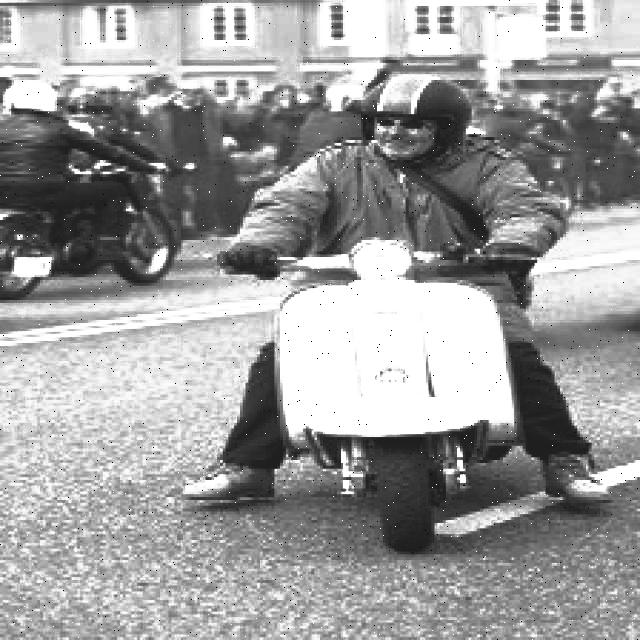Bike: (254, 253, 525, 542), (8, 177, 179, 294)
